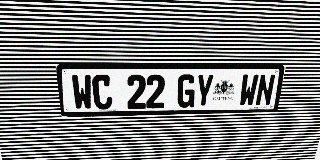2: (127, 74, 146, 109), (146, 74, 165, 108)
C: (92, 75, 113, 110)
G: (177, 74, 196, 108)
N: (255, 74, 276, 106)
W: (71, 75, 93, 110), (238, 74, 259, 106)
Y: (194, 74, 214, 107)
